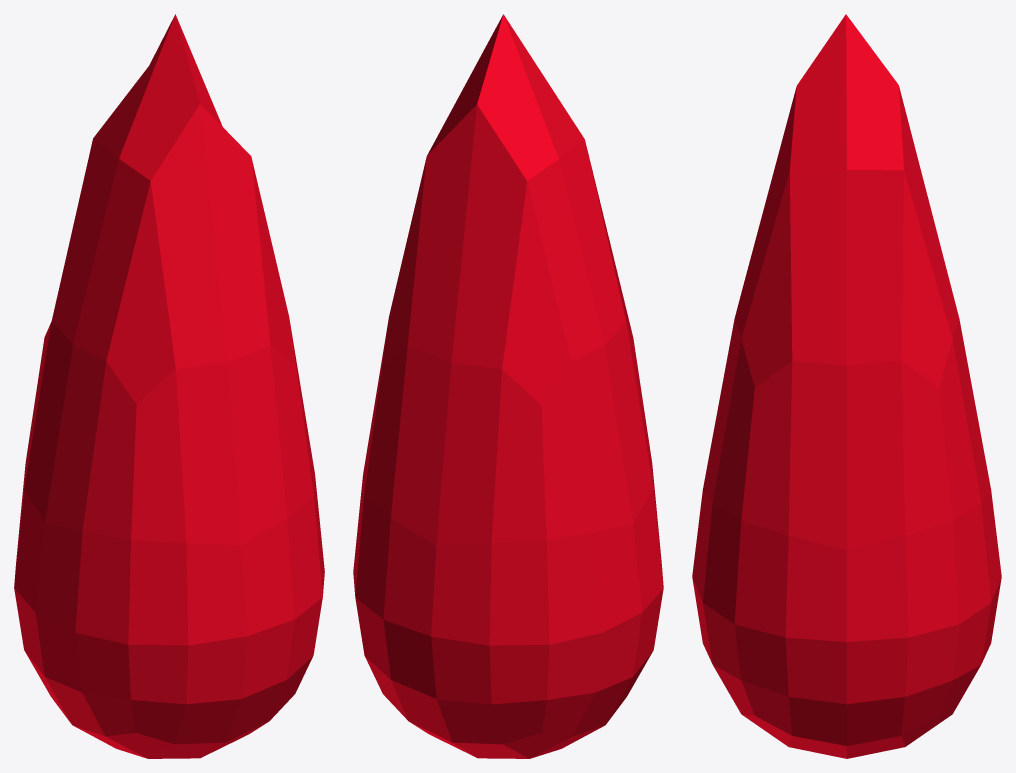
Rendered from Fueguito.fbx.
3 renders of one model, left to right at view 1: azimuth 30°, elevation 25°; view 2: azimuth 150°, elevation 25°; view 3: azimuth 270°, elevation 25°, orthographic.
Visible parts, largest first — view 1: Cube.011; view 2: Cube.011; view 3: Cube.011.
Boxes of the visible parts, bbox=[...] form: Cube.011: bbox=[14, 14, 324, 758]; Cube.011: bbox=[353, 14, 663, 758]; Cube.011: bbox=[692, 14, 1001, 758].
Bounding box in the file's own units: 0.0193 × 0.0504 × 0.0193.
